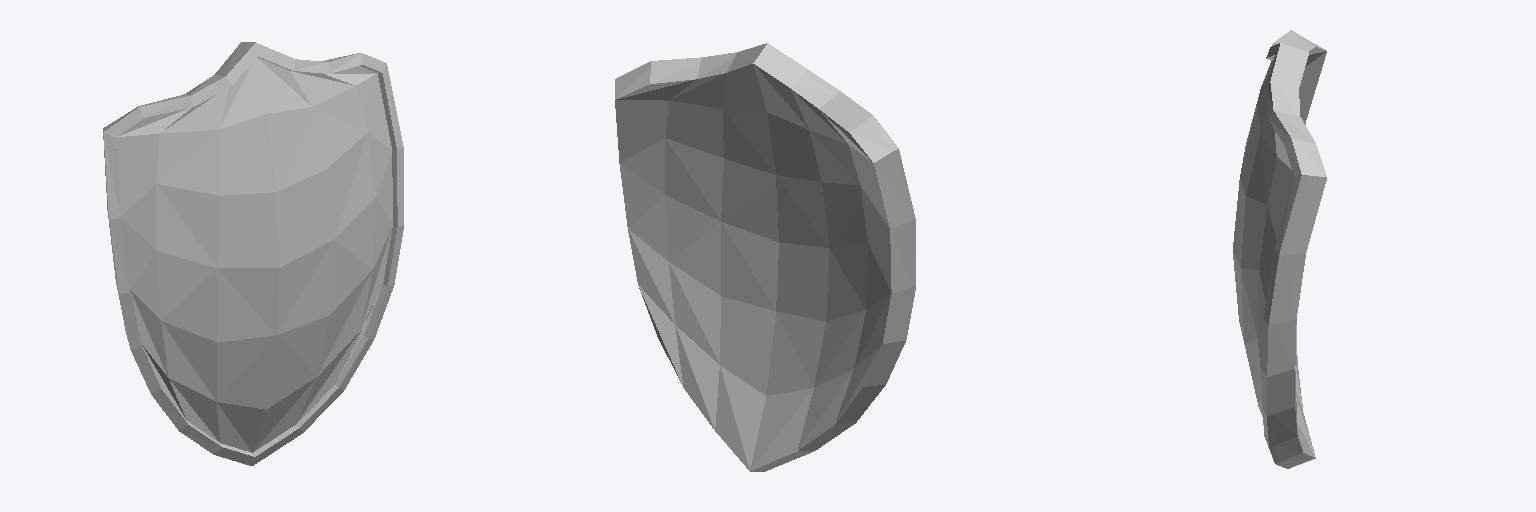
Rendered from NewSheild.obj.
The picture shows the model from 3 angles: view 1: azimuth 30°, elevation 25°; view 2: azimuth 150°, elevation 25°; view 3: azimuth 270°, elevation 25°; orthographic projection.
Visible parts, largest first — view 1: NewSheild; view 2: NewSheild; view 3: NewSheild.
Boxes of the visible parts, x1,y1,x2,y2 form: NewSheild: [103, 42, 403, 465]; NewSheild: [615, 43, 915, 471]; NewSheild: [1233, 30, 1326, 468].
Bounding box in the file's own units: 12.01 × 16.61 × 3.34.